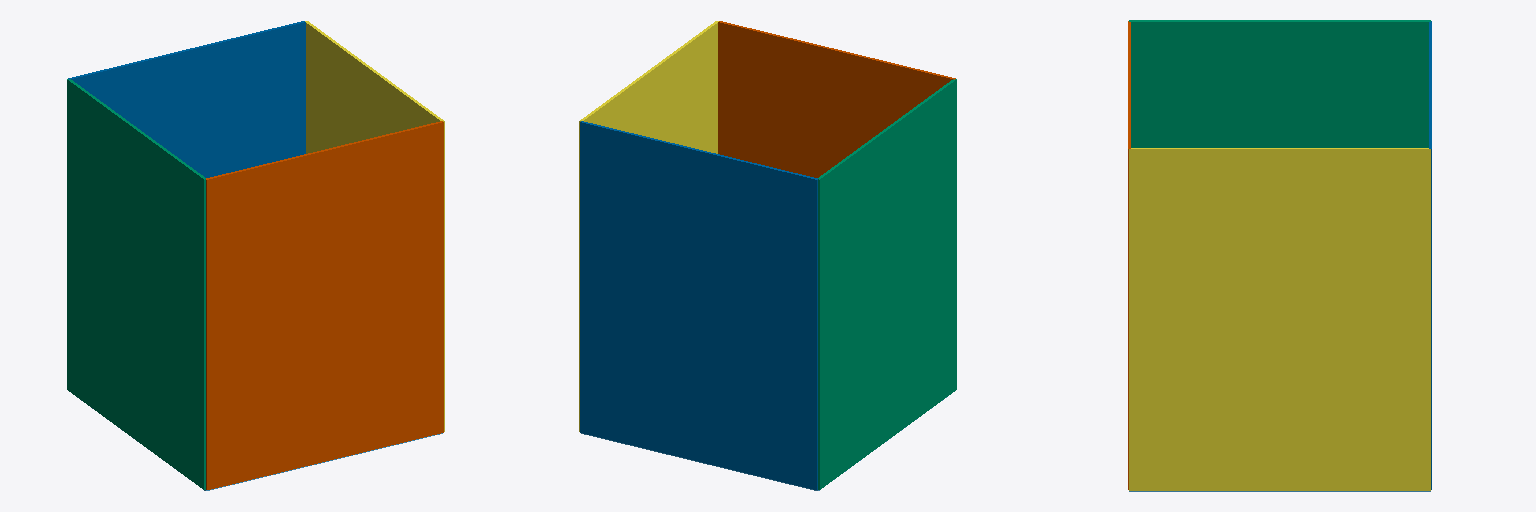
URDF robot description (bin):
<?xml version='1.0'?>
<robot name ='bin'>

<link name="world"/>

<joint name = "joint_fix" type = "fixed">
  <parent link="world"/>
  <child link = "bottom"/>
</joint>


<link name ="bottom"> <!--2-->
  <collision>
    <origin xyz="0 0 0" rpy="0 0 0"/>
    <geometry>
      <box size="0.08 0.08 0.001"/> <!--3-->
    </geometry>
  </collision>

  <visual>
    <origin xyz="0 0 0" rpy="0 0 0"/>
    <geometry>
      <box size="0.08 0.08 0.001"/>
    </geometry>
  </visual>

  <inertial>
    <origin xyz="0 0 0" rpy="0 0 0" />
    <mass value="0.001" />
    <inertia
      ixx="0.001" ixy="0.0"  ixz="0.0"
      iyy="0.001" iyz="0.0"
      izz="0.001" />
  </inertial>
</link>

<joint name = "left_wall" type = "fixed">
  <parent link="bottom"/>
  <child link = "left"/>
</joint>


<link name = "left">
  <collision> <!--4-->
    <origin xyz="-0.04 0 0.05" rpy="0 0 0"/>
    <geometry>
      <box size="0.001 0.08 0.1"/>
    </geometry>
  </collision>

  <visual>
    <origin xyz="-0.04 0 0.05" rpy="0 0 0"/>
    <geometry>
      <box size="0.001 0.08 0.1"/>
    </geometry>
  </visual>

  <inertial>
    <origin xyz="-0.04 0 0.05" rpy="0 0 0" />
    <mass value="0.001" />
    <inertia
      ixx="0.001" ixy="0.0"  ixz="0.0"
      iyy="0.001" iyz="0.0"
      izz="0.001" />
  </inertial>
</link>

<joint name = "right_wall" type = "fixed">
  <parent link="bottom"/>
  <child link = "right"/>
</joint>

<link name="right">
  <collision>
    <origin xyz="0.04 0 0.05" rpy="0 0 0"/>
    <geometry>
      <box size="0.001 0.08 0.1"/>
    </geometry>
  </collision>

  <visual>
    <origin xyz="0.04 0 0.05" rpy="0 0 0"/>
    <geometry>
      <box size="0.001 0.08 0.1"/>
    </geometry>
  </visual>

  <inertial>
    <origin xyz="0.04 0 0.05" rpy="0 0 0" />
    <mass value="0.001" />
    <inertia
      ixx="0.001" ixy="0.0"  ixz="0.0"
      iyy="0.001" iyz="0.0"
      izz="0.001" />
  </inertial>
</link>

<joint name = "back_wall" type = "fixed">
  <parent link="bottom"/>
  <child link = "back"/>
</joint>

<link name="back">
  <collision>
    <origin xyz="0 0.04 0.05" rpy="0 0 0"/>
    <geometry>
      <box size="0.08 0.001 0.1"/>
    </geometry>
  </collision>

  <visual>
    <origin xyz="0 0.04 0.05" rpy="0 0 0"/>
    <geometry>
      <box size="0.08 0.001 0.1"/>
    </geometry>
  </visual>

  <inertial>
    <origin xyz="0 0.04 0.05" rpy="0 0 0" />
    <mass value="0.001" />
    <inertia
      ixx="0.001" ixy="0.0"  ixz="0.0"
      iyy="0.001" iyz="0.0"
      izz="0.001" />
  </inertial>
</link>

<joint name = "front_wall" type = "fixed">
  <parent link="bottom"/>
  <child link = "front"/>
</joint>

<link name="front">
  <collision>
    <origin xyz="0 -0.04 0.05" rpy= "0 0 0"/>
    <geometry>
      <box size="0.08 0.001 0.1"/>
    </geometry>
  </collision>

  <visual>
    <origin xyz="0 -0.04 0.05" rpy="0 0 0"/>
    <geometry>
      <box size="0.08 0.001 0.1"/>
    </geometry>
  </visual>

  <inertial>
    <origin xyz="0 -0.04 0.05" rpy="0 0 0"/>
    <mass value="0.001" />
    <inertia
      ixx="0.001" ixy="0.0"  ixz="0.0"
      iyy="0.001" iyz="0.0"
      izz="0.001" />
  </inertial>
</link>

<gazebo reference="bottom">
  <mu1>10</mu1>
  <mu2>10</mu2>
  <material>Gazebo/Blue</material>
</gazebo>

<gazebo reference="right">
  <mu1>10</mu1>
  <mu2>10</mu2>
  <material>Gazebo/Blue</material>
</gazebo>

<gazebo reference="left">
  <mu1>10</mu1>
  <mu2>10</mu2>
  <material>Gazebo/Blue</material>
</gazebo>

<gazebo reference="back">
  <mu1>10</mu1>
  <mu2>10</mu2>
  <material>Gazebo/Blue</material>
</gazebo>

<gazebo reference="front">
  <mu1>10</mu1>
  <mu2>10</mu2>
  <material>Gazebo/Blue</material>
</gazebo>

</robot>

--- Render facts (derived) ---
Views: 3 orthographic renders of the robot side by side, from view 1: azimuth 30°, elevation 25°; view 2: azimuth 150°, elevation 25°; view 3: azimuth 270°, elevation 25°.
Model bin with 6 links and 5 joints (5 fixed), rooted at world, posed every joint at zero.
Links seen in each view (by area): view 1: front, left, back, right; view 2: back, left, front, right; view 3: right, left, back, front.
Boxes of the visible links, x1,y1,x2,y2 form: front: [206, 121, 443, 489]; left: [67, 79, 205, 489]; back: [68, 21, 305, 177]; right: [305, 21, 444, 431]; back: [580, 121, 817, 489]; left: [818, 79, 956, 489]; front: [718, 21, 955, 177]; right: [579, 21, 718, 431]; right: [1129, 148, 1430, 490]; left: [1129, 20, 1430, 147]; back: [1429, 21, 1431, 489]; front: [1128, 21, 1130, 489].
Bounding box of the posed robot: 0.081 × 0.081 × 0.1005 m (x, y, z).
Geometry: primitives only (box / cylinder / sphere), no mesh files.
